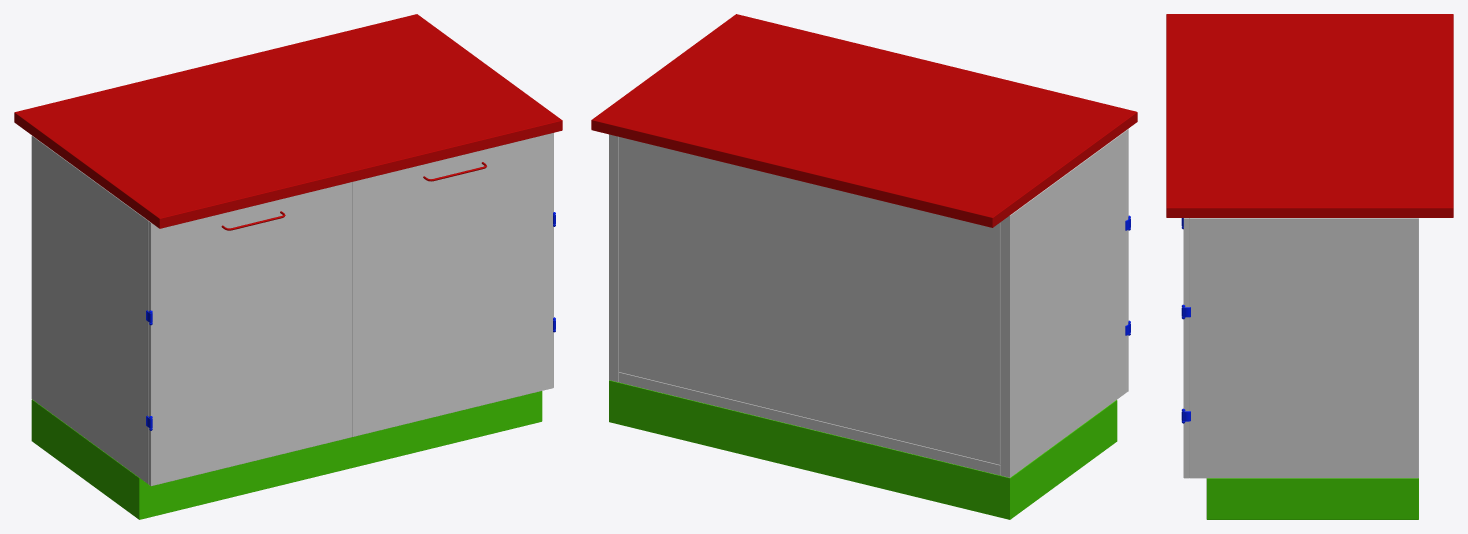
Rendered from Bench02c.fbx.
3 views of the same model, side by side, from view 1: azimuth 30°, elevation 25°; view 2: azimuth 150°, elevation 25°; view 3: azimuth 270°, elevation 25° (orthographic).
Visible parts, largest first — view 1: Bench02c, Drawer01, Drawer02; view 2: Bench02c, Drawer01; view 3: Bench02c, Drawer02.
Boxes of the visible parts, x1=… form: Bench02c: x1=14, y1=14, x2=562, y2=519; Drawer01: x1=148, y1=182, x2=352, y2=486; Drawer02: x1=352, y1=133, x2=553, y2=436; Bench02c: x1=591, y1=14, x2=1137, y2=519; Drawer01: x1=1126, y1=129, x2=1128, y2=392; Bench02c: x1=1166, y1=14, x2=1453, y2=519; Drawer02: x1=1183, y1=218, x2=1189, y2=478.
Size of the model in its own units: 101 by 62.5 by 75.
